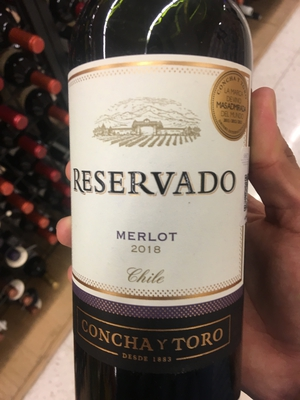reservado merlot: (59, 13, 257, 392)
